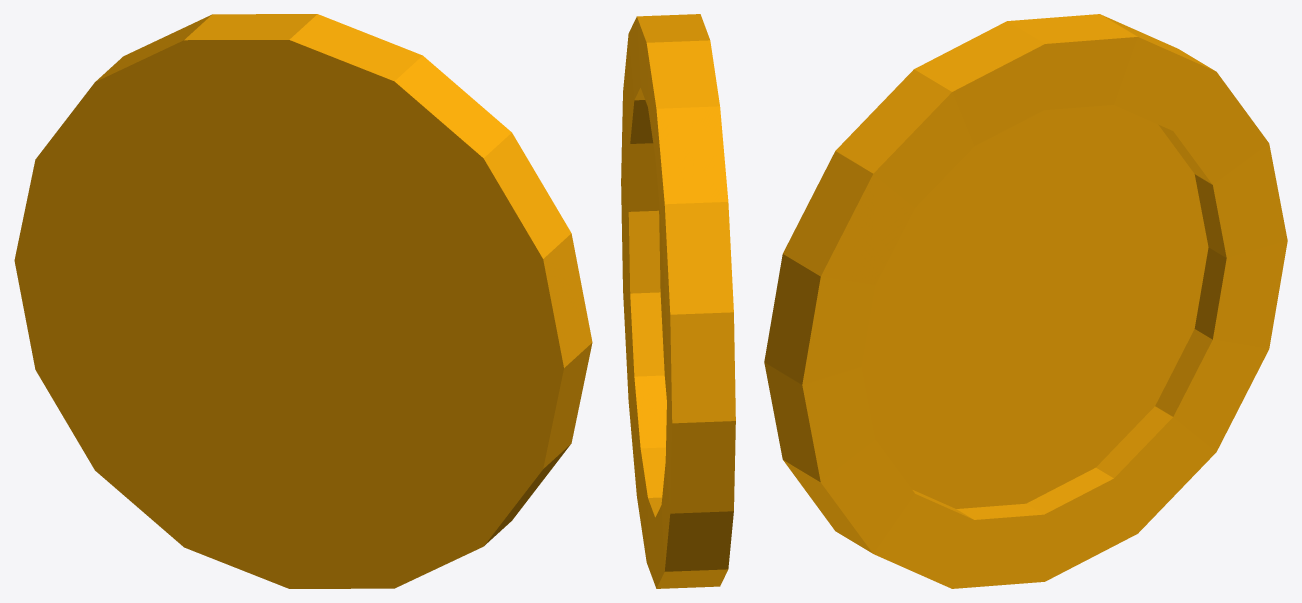
File: coin.fbx
The picture shows the model from 3 angles, left to right: view 1: azimuth 30°, elevation 25°; view 2: azimuth 150°, elevation 25°; view 3: azimuth 270°, elevation 25°; orthographic projection. The views are drawn at different scales.
Visible parts, largest first — view 1: Circle.008; view 2: Circle.008; view 3: Circle.008.
Part boxes in pixels (box(x1,y1,x2,y2)): Circle.008: box(14, 14, 592, 588); Circle.008: box(621, 14, 735, 588); Circle.008: box(764, 14, 1287, 588).
Bounding box in the file's own units: 34.97 × 52.47 × 46.28.
